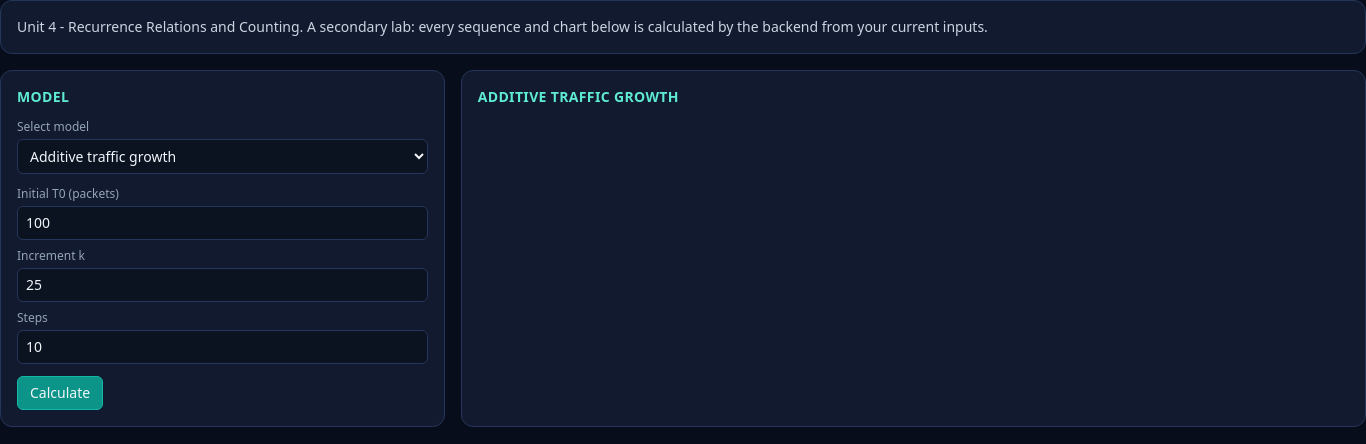
Test: Math Lab › shows backend validation errors
Select "Fibonacci" in the dropdown labelled "Select model". click: (222, 156)
box: [17,139,428,174]
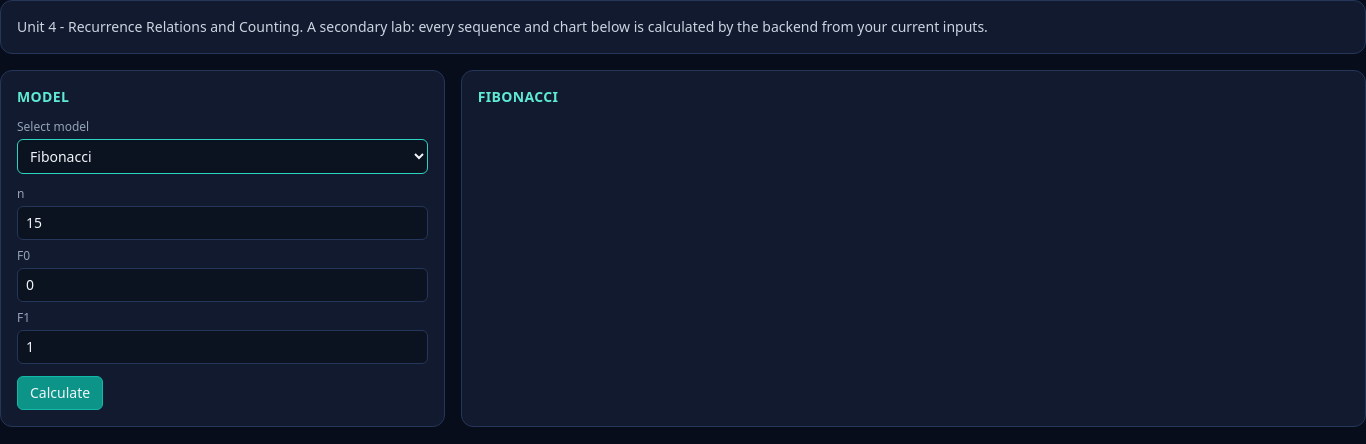
Click the button "Calculate". click: (60, 393)
box: [17,376,103,410]
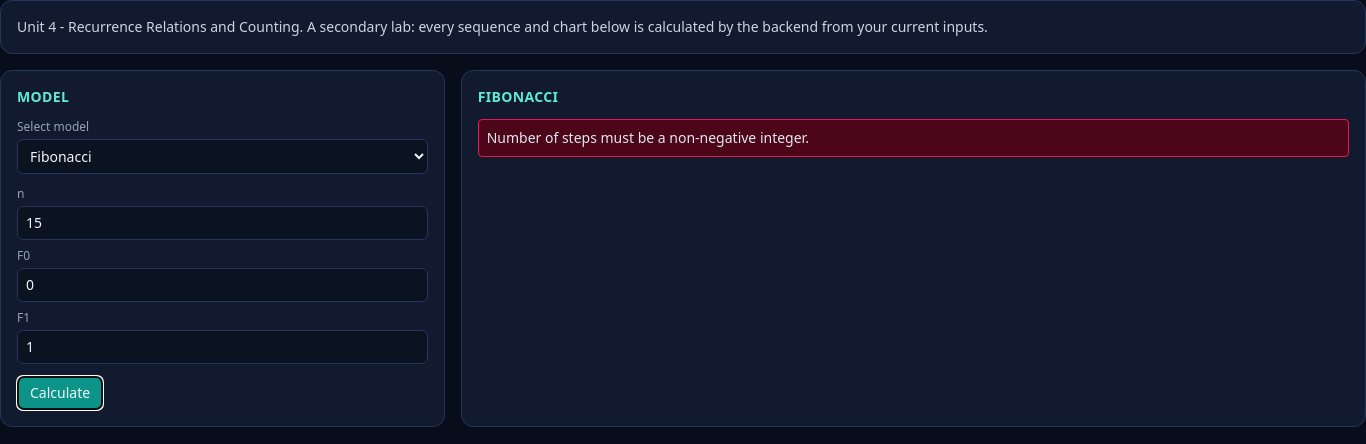
Result: the message shows "non-negative" at [487,128,809,147]
